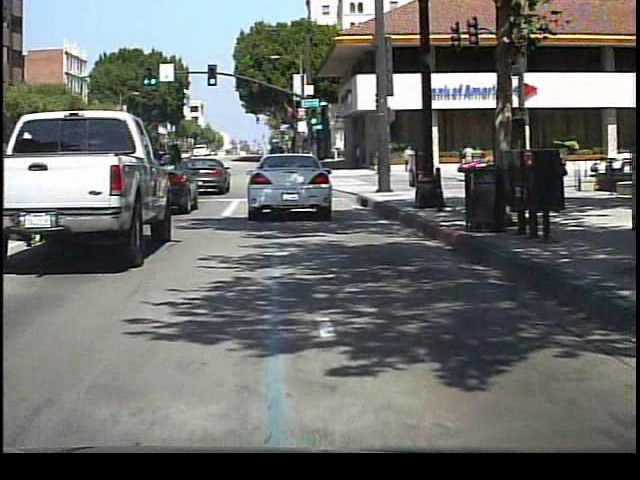person: (458, 139, 477, 174), (400, 143, 417, 176)
